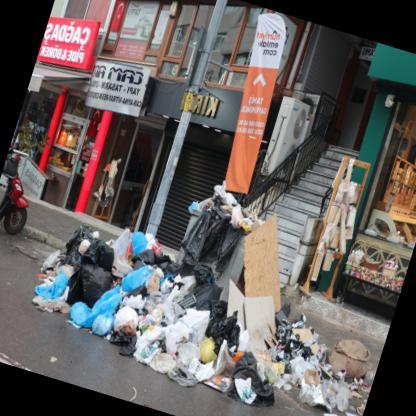Garbage: (282, 346, 336, 415), (16, 256, 74, 312), (218, 356, 274, 412), (188, 188, 263, 228), (100, 312, 147, 366), (114, 228, 163, 275), (207, 308, 253, 358), (171, 343, 213, 396), (73, 240, 111, 298), (180, 208, 214, 263), (214, 221, 248, 276), (270, 320, 310, 364), (60, 213, 93, 266), (198, 211, 229, 264), (96, 278, 132, 323), (140, 242, 176, 284), (142, 286, 178, 328), (80, 309, 121, 345), (116, 226, 150, 266), (210, 312, 244, 350), (322, 376, 352, 412), (157, 263, 187, 298), (66, 296, 95, 332), (138, 347, 174, 376), (125, 260, 155, 292), (196, 282, 222, 309), (226, 199, 250, 228), (191, 263, 216, 290), (343, 391, 368, 415), (209, 182, 233, 204)
